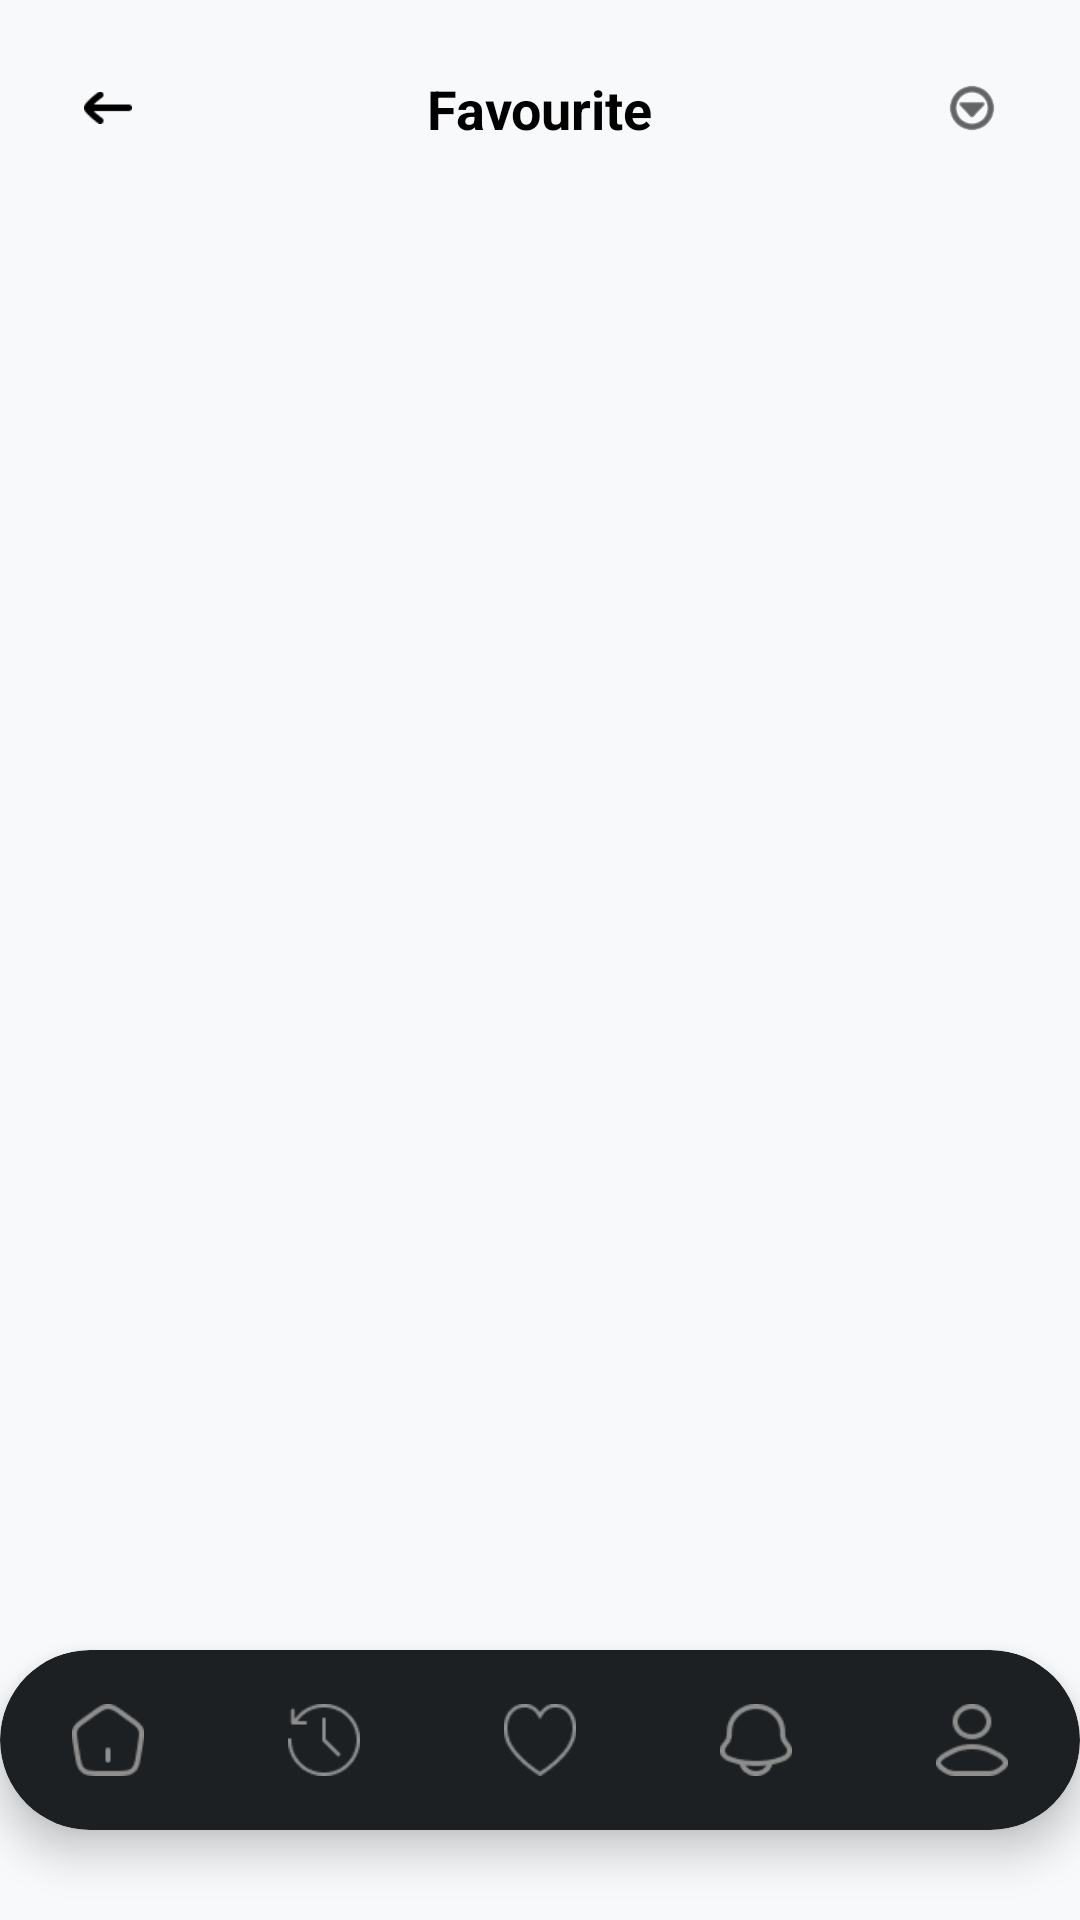

Where icons sit on this 1080w x 1920h app screen, as box=[x1, y1, x2, y2]:
favourite heart: box=[504, 1704, 576, 1776]
history: box=[288, 1704, 360, 1776]
homepage: box=[72, 1704, 144, 1776]
notification: box=[720, 1704, 792, 1776]
profile settings: box=[936, 1704, 1008, 1776]
